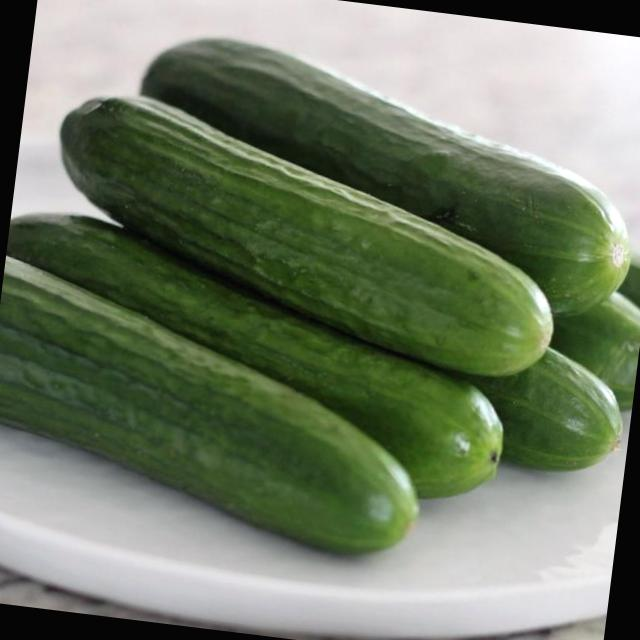Cucumber: (42, 88, 569, 383), (0, 210, 515, 509)
